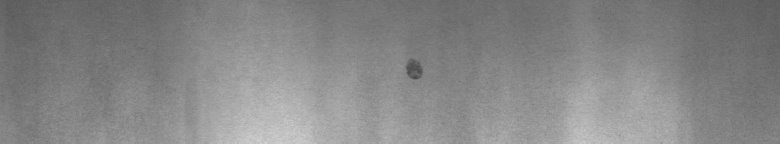fi: (400, 55, 427, 84)
